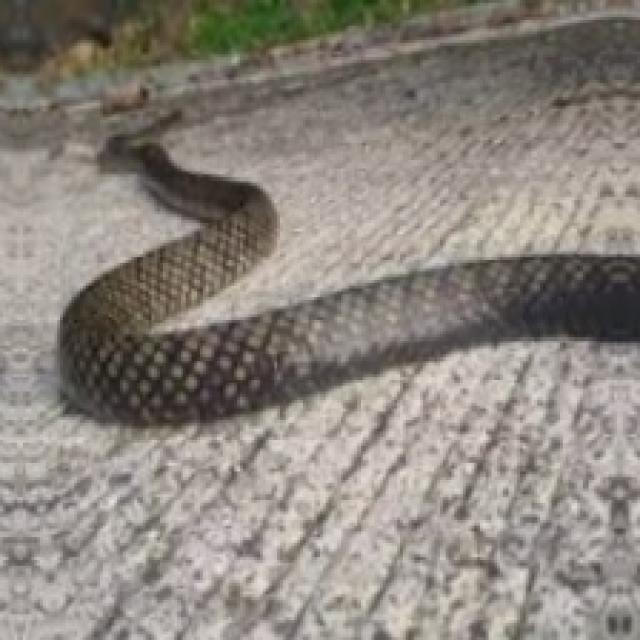smooth-scaled mountain rat snake: (57, 137, 637, 420)
